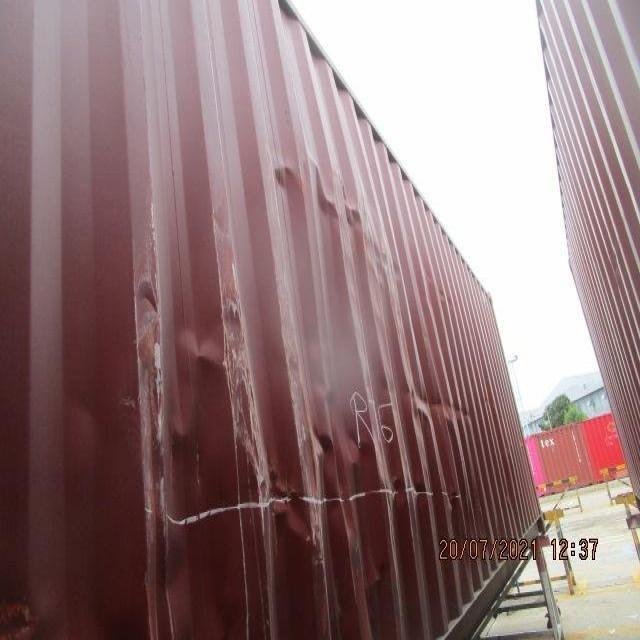Dent: (97, 325, 472, 639), (250, 107, 415, 333)
